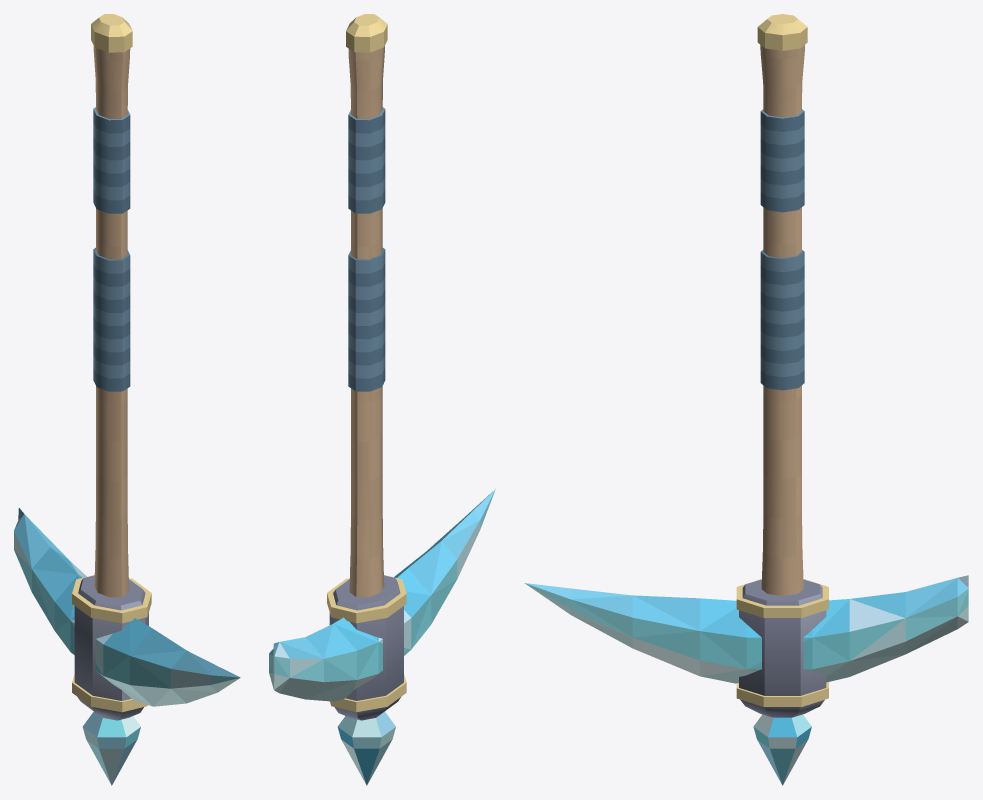
The model's file is Melee_Pickaxe.glb.
3 renders of one model, left to right at view 1: azimuth 30°, elevation 25°; view 2: azimuth 150°, elevation 25°; view 3: azimuth 270°, elevation 25°, orthographic.
Parts seen in each view (by area): view 1: Head, Handle, Wrap, Collar; view 2: Head, Handle, Wrap, Collar; view 3: Head, Handle, Collar, Wrap.
Boxes of the visible parts, x1,y1,x2,y2 form: Head: [14, 508, 240, 785]; Handle: [93, 46, 130, 597]; Wrap: [93, 107, 130, 391]; Collar: [72, 14, 151, 720]; Head: [269, 489, 495, 785]; Handle: [348, 46, 384, 597]; Wrap: [348, 107, 385, 391]; Collar: [327, 14, 406, 720]; Head: [524, 575, 968, 785]; Handle: [760, 45, 804, 595]; Collar: [736, 14, 828, 717]; Wrap: [760, 109, 804, 390].
Bounding box in the file's own units: 0.4065 × 4.91 × 2.58.
